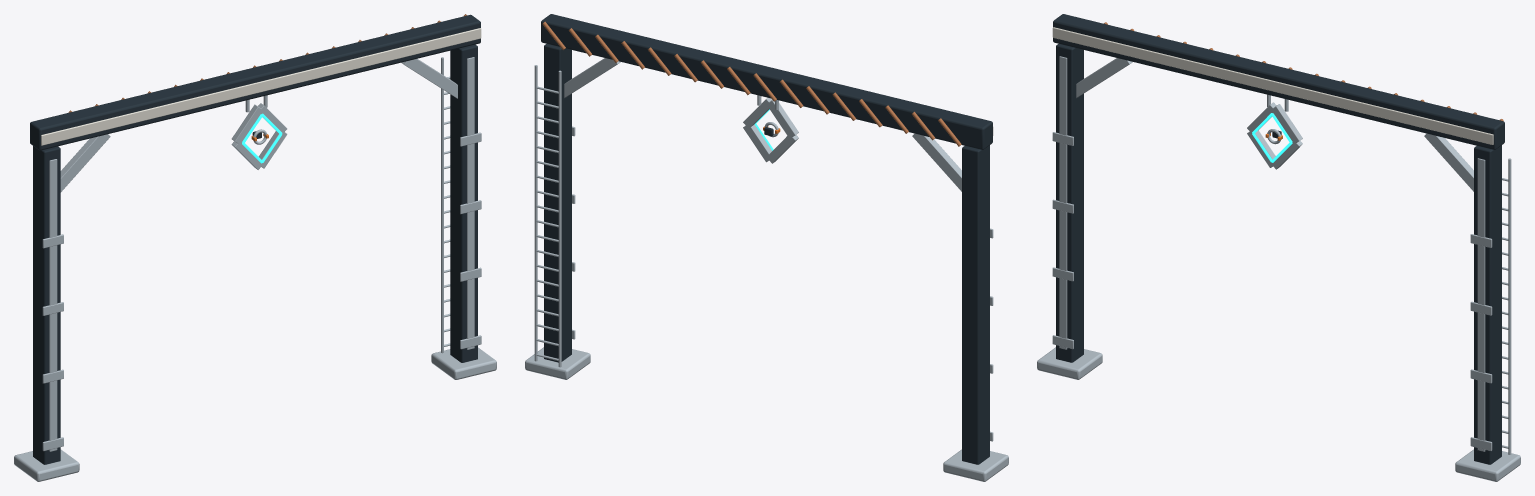
The model's file is Gantry.fbx.
3 renders of one model, left to right at view 1: azimuth 30°, elevation 25°; view 2: azimuth 150°, elevation 25°; view 3: azimuth 330°, elevation 25°, orthographic.
Visible parts, largest first — view 1: GFCG_GantryCrossBeam, GFCG_GantryMast_-1, GFCG_GantryMast_1, GFCG_GantryBeamIvoryFace, GFCG_GantryMastInlay_-1, GFCG_GantryMastInlay_1, GFCG_GantryFoot_-1, GFCG_GantryFoot_1, GFCG_GantryBrace_-1, GFCG_LadderRail_3.96, GFCG_GantryBrace_1; view 2: GFCG_GantryCrossBeam, GFCG_GantryMast_-1, GFCG_GantryMast_1, GFCG_GantryFoot_-1, GFCG_LadderRail_3.96, GFCG_GantryFoot_1, GFCG_LadderRail_4.44, GFCG_GantryBrace_-1, GFCG_GantryBrace_1; view 3: GFCG_GantryCrossBeam, GFCG_GantryMast_1, GFCG_GantryMast_-1, GFCG_GantryBeamIvoryFace, GFCG_GantryMastInlay_-1, GFCG_GantryMastInlay_1, GFCG_GantryFoot_-1, GFCG_GantryFoot_1, GFCG_LadderRail_4.44, GFCG_GantryBrace_1, GFCG_GantryBrace_-1.
Part boxes in pixels (bbox=[...]): GFCG_GantryCrossBeam: bbox=[30, 14, 480, 150]; GFCG_GantryMast_-1: bbox=[33, 146, 60, 464]; GFCG_GantryMast_1: bbox=[450, 44, 477, 362]; GFCG_GantryBeamIvoryFace: bbox=[41, 28, 481, 145]; GFCG_GantryMastInlay_-1: bbox=[49, 159, 57, 451]; GFCG_GantryMastInlay_1: bbox=[467, 57, 474, 349]; GFCG_GantryFoot_-1: bbox=[14, 449, 79, 481]; GFCG_GantryFoot_1: bbox=[431, 347, 496, 379]; GFCG_GantryBrace_-1: bbox=[60, 134, 110, 192]; GFCG_LadderRail_3.96: bbox=[441, 57, 443, 353]; GFCG_GantryBrace_1: bbox=[401, 58, 457, 98]; GFCG_GantryCrossBeam: bbox=[541, 14, 992, 149]; GFCG_GantryMast_-1: bbox=[962, 145, 989, 464]; GFCG_GantryMast_1: bbox=[544, 44, 571, 362]; GFCG_GantryFoot_-1: bbox=[943, 449, 1008, 481]; GFCG_LadderRail_3.96: bbox=[558, 70, 561, 367]; GFCG_GantryFoot_1: bbox=[525, 347, 590, 379]; GFCG_LadderRail_4.44: bbox=[534, 65, 537, 361]; GFCG_GantryBrace_-1: bbox=[912, 133, 961, 191]; GFCG_GantryBrace_1: bbox=[564, 58, 620, 97]; GFCG_GantryCrossBeam: bbox=[1053, 14, 1504, 149]; GFCG_GantryMast_1: bbox=[1474, 145, 1501, 464]; GFCG_GantryMast_-1: bbox=[1056, 44, 1083, 362]; GFCG_GantryBeamIvoryFace: bbox=[1052, 27, 1493, 144]; GFCG_GantryMastInlay_-1: bbox=[1059, 56, 1067, 349]; GFCG_GantryMastInlay_1: bbox=[1477, 158, 1485, 451]; GFCG_GantryFoot_-1: bbox=[1037, 347, 1102, 379]; GFCG_GantryFoot_1: bbox=[1455, 449, 1520, 481]; GFCG_LadderRail_4.44: bbox=[1508, 158, 1511, 454]; GFCG_GantryBrace_1: bbox=[1424, 133, 1473, 191]; GFCG_GantryBrace_-1: bbox=[1076, 58, 1132, 97].
Bounding box in the file's own units: 9.26 × 6.67 × 0.85.
